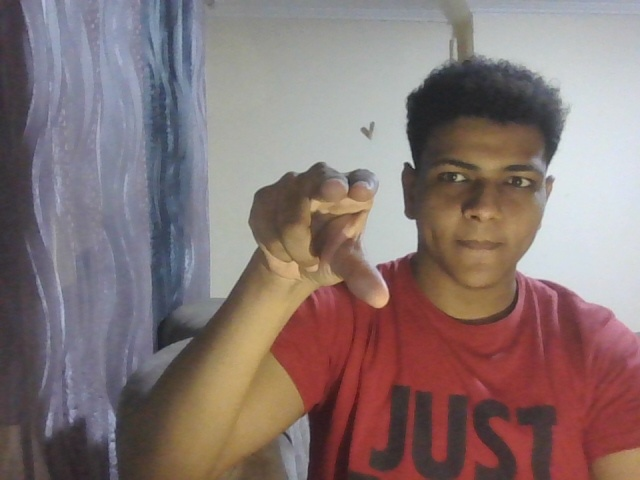no: (236, 128, 395, 342)
